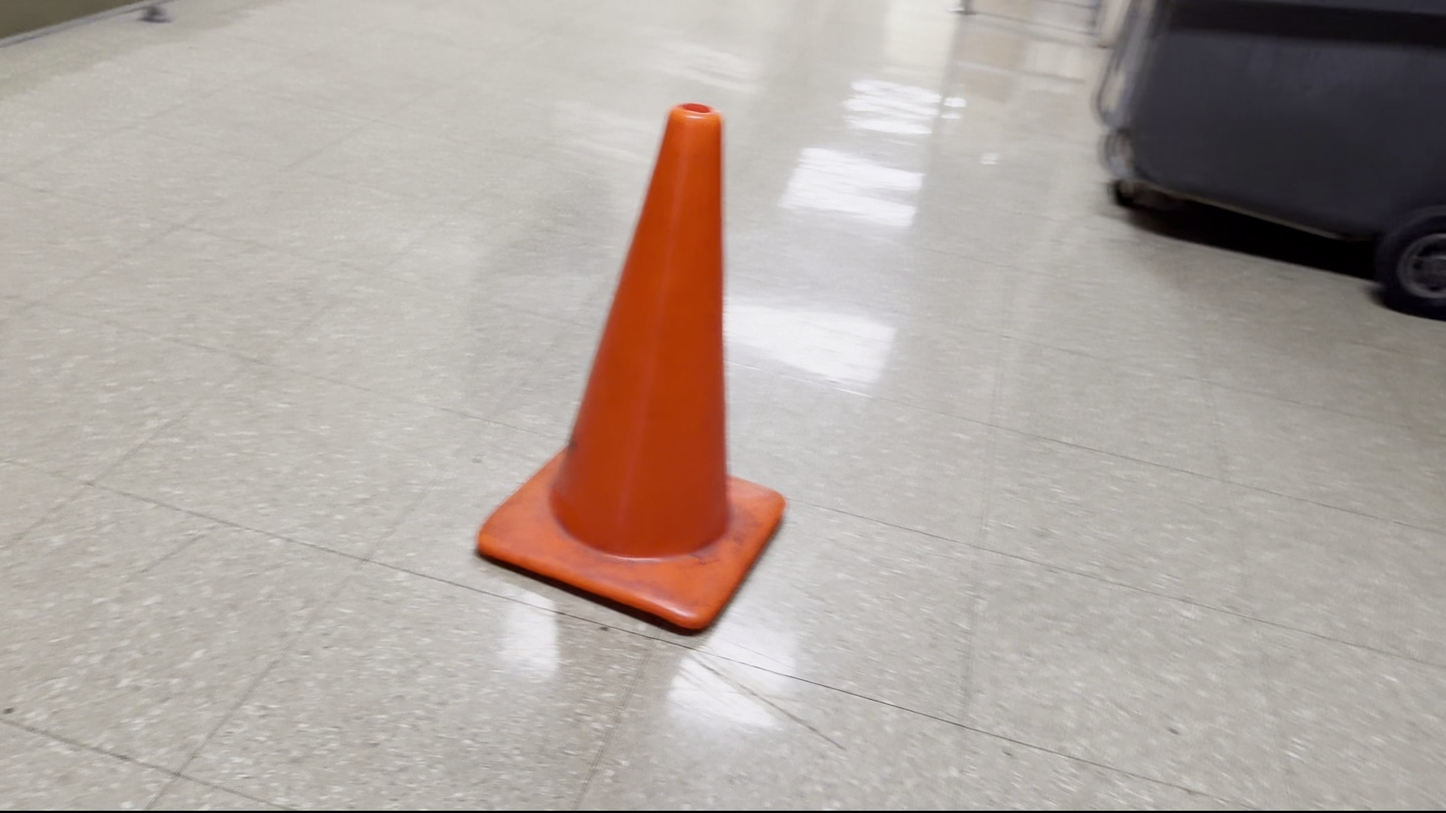traffic_cone: (475, 101, 787, 635)
